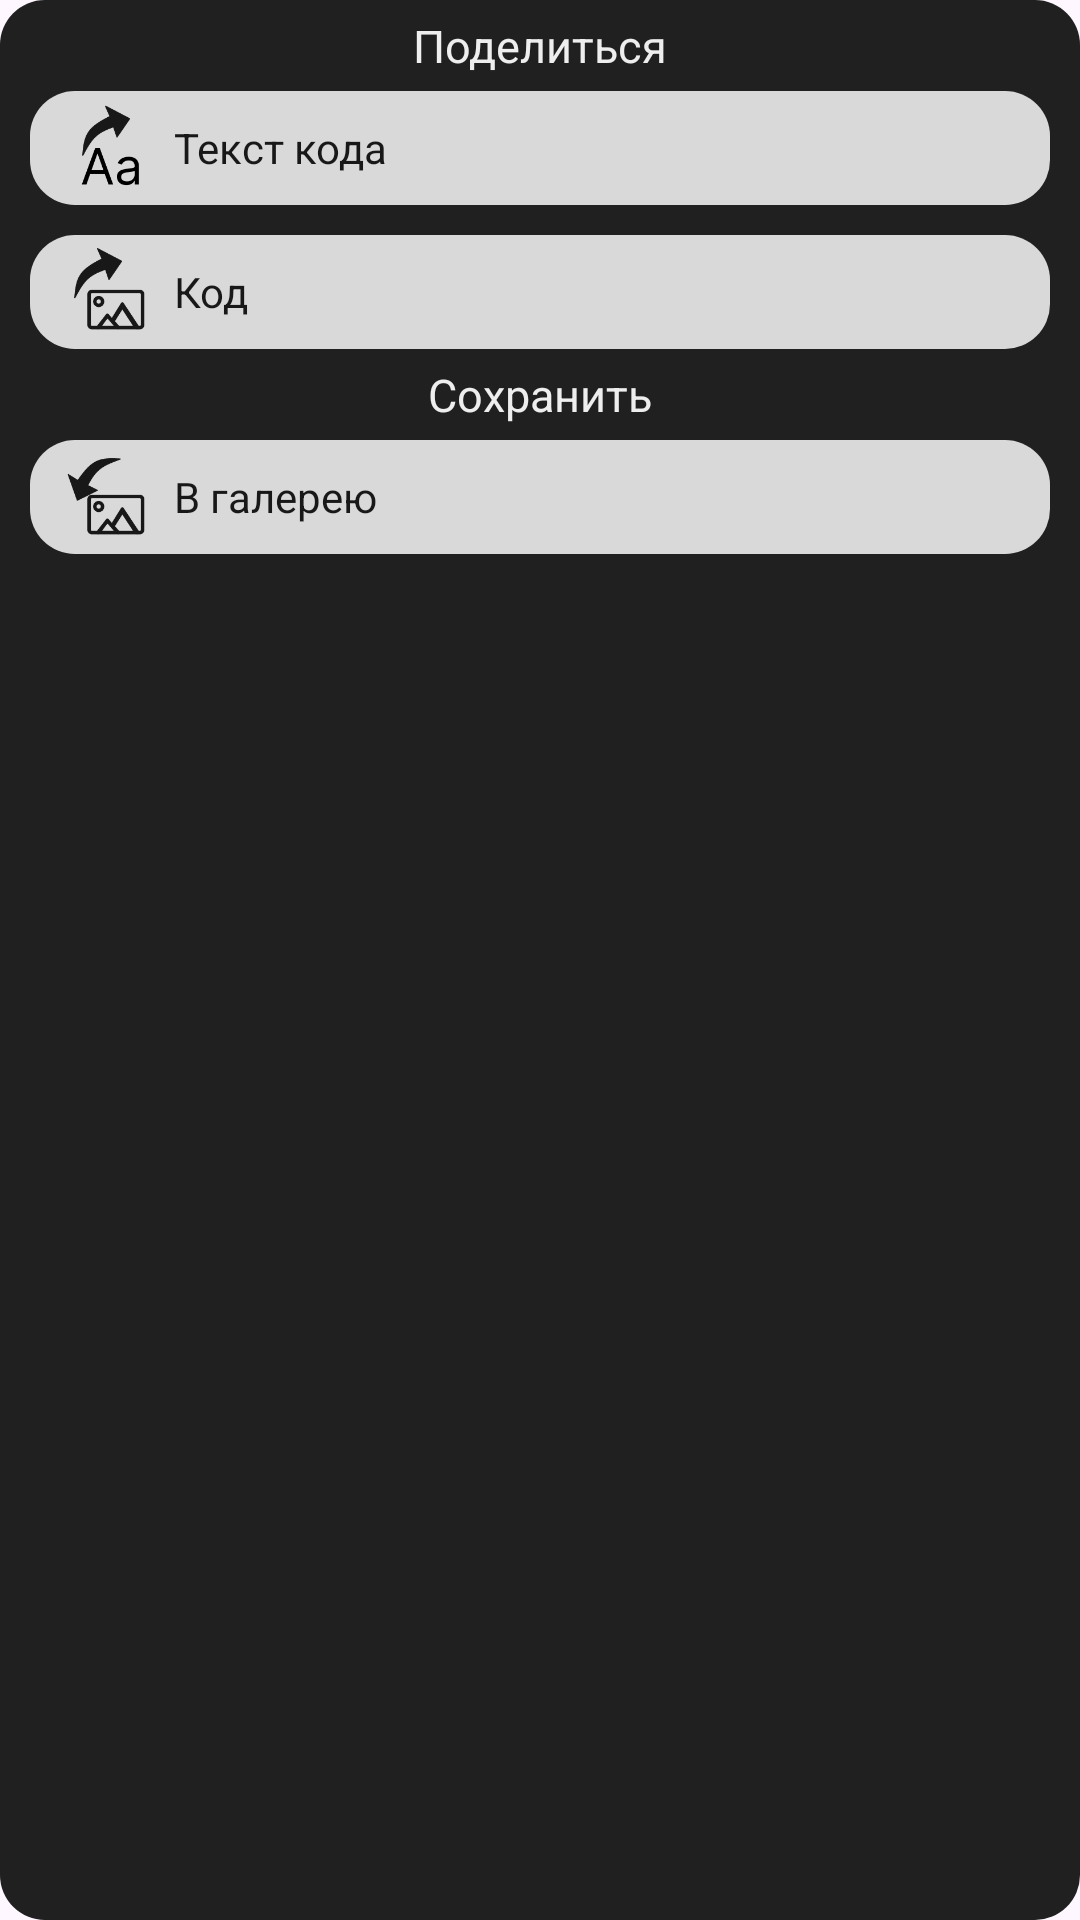

Named icons in this screenshot (1080*1920) and their centers, (x=x, y=y):
save: (x=106, y=496)
share: (x=109, y=289)
share text: (x=110, y=145)
